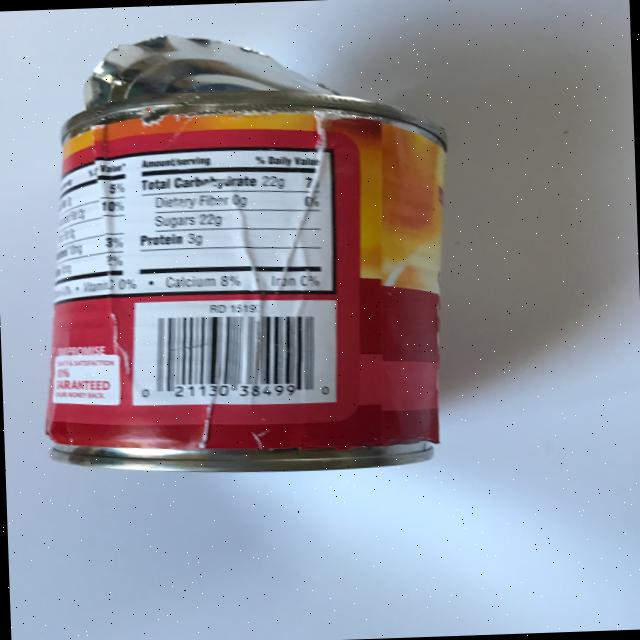metal: (31, 24, 460, 480)
